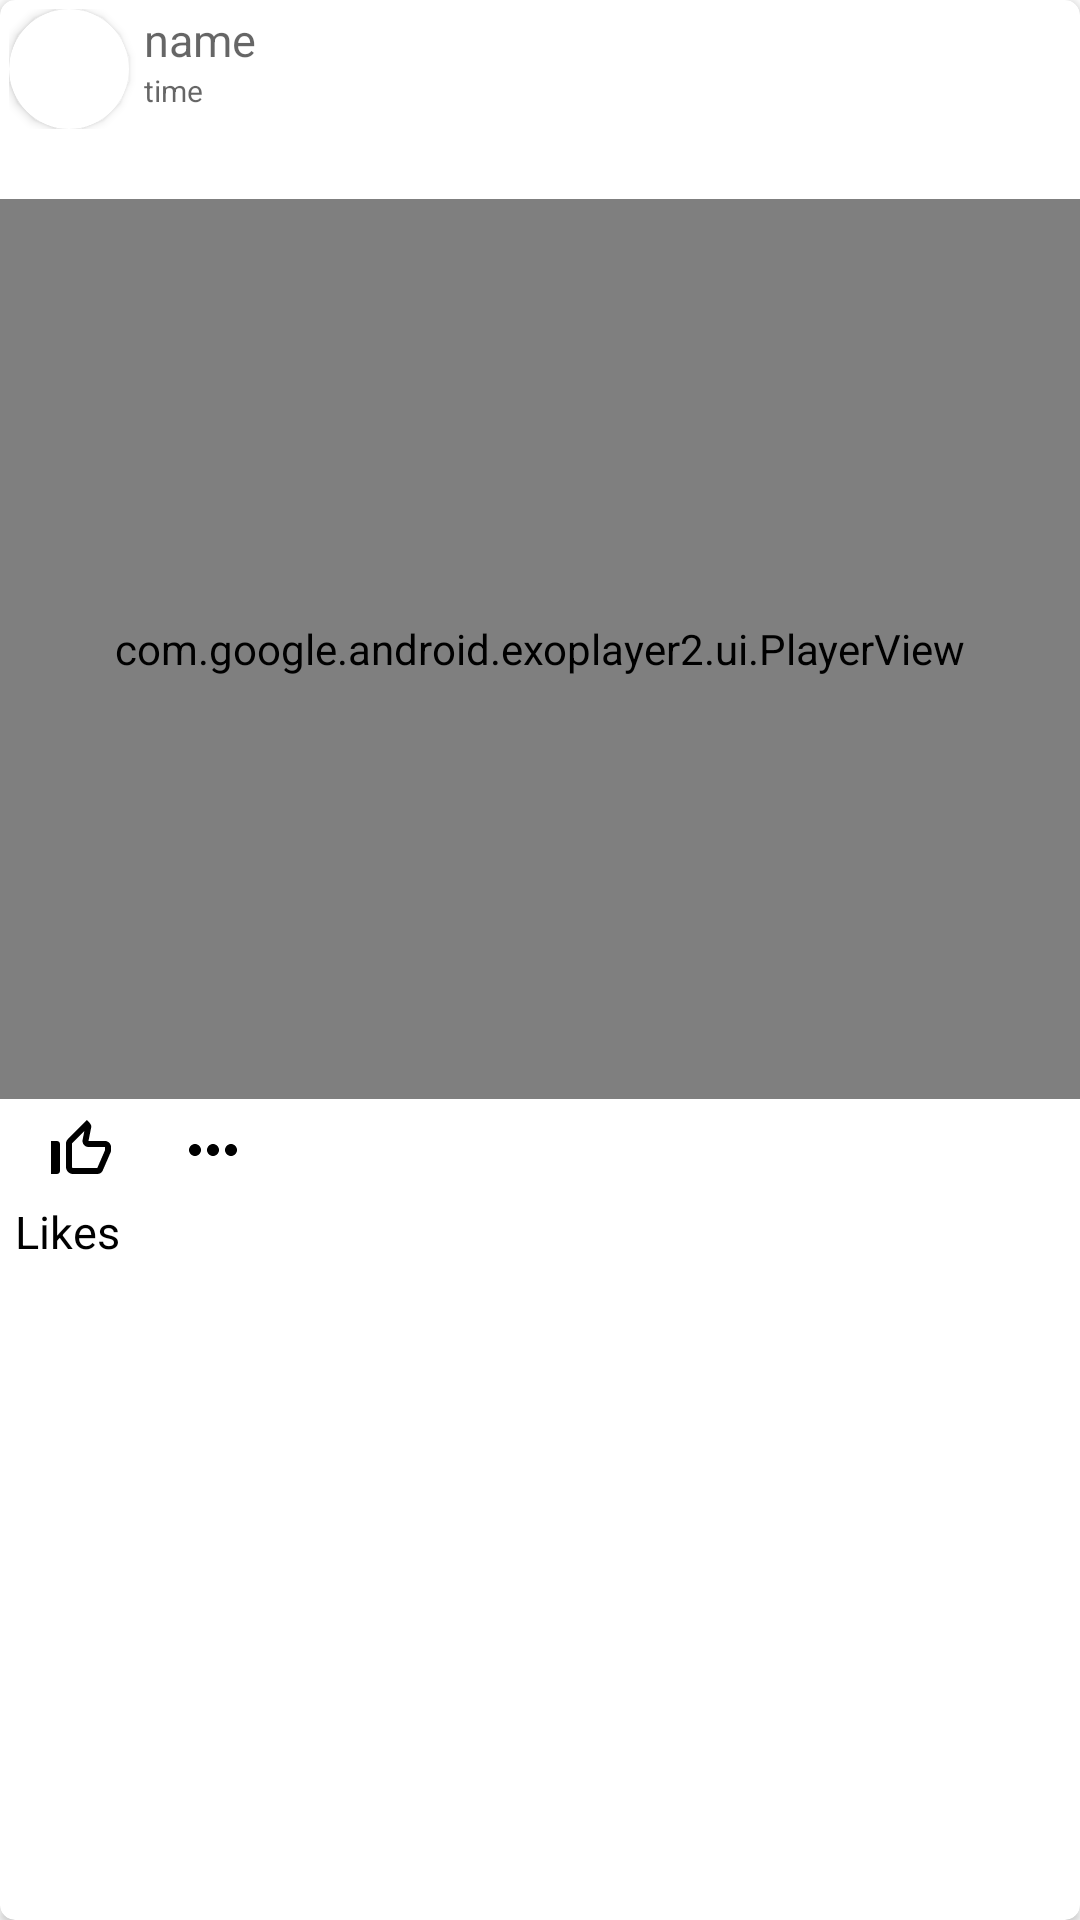

Icon click points for this 1080x1920 phone screenshot, format [x,y]:
moreoptions: [213,1150]
